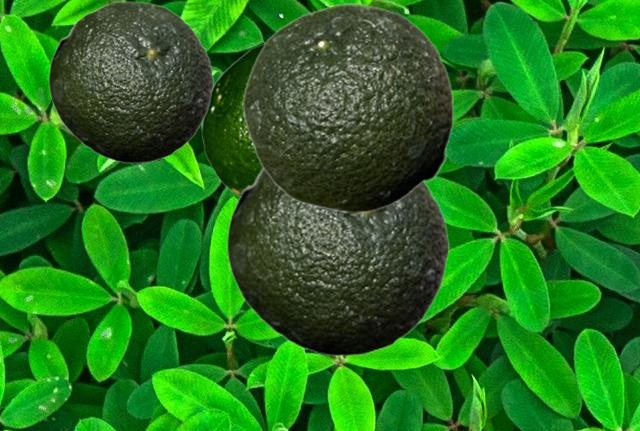calamansi: (242, 3, 453, 212), (226, 167, 449, 355), (48, 1, 213, 162), (201, 40, 264, 197)
